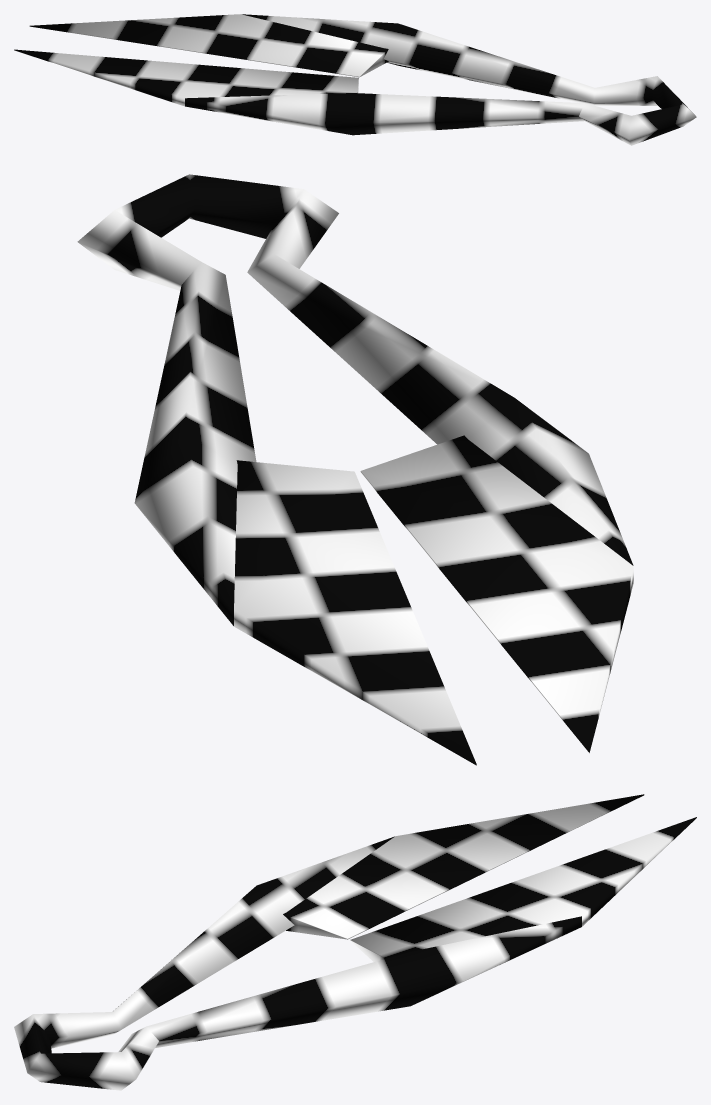
Rendered from initqu1.dae.
3 renders of one model, top to bottom at view 1: azimuth 30°, elevation 25°; view 2: azimuth 150°, elevation 25°; view 3: azimuth 270°, elevation 25°, orthographic. The views are drawn at different scales.
Visible parts, largest first — view 1: item; view 2: item; view 3: item.
Boxes of the visible parts, x1,y1,x2,y2 form: item: [14, 14, 696, 145]; item: [77, 174, 633, 765]; item: [14, 794, 696, 1090].
Bounding box in the file's own units: 1.5 × 1.52 × 0.1337.
Materials: 1 (1 with a texture image).
